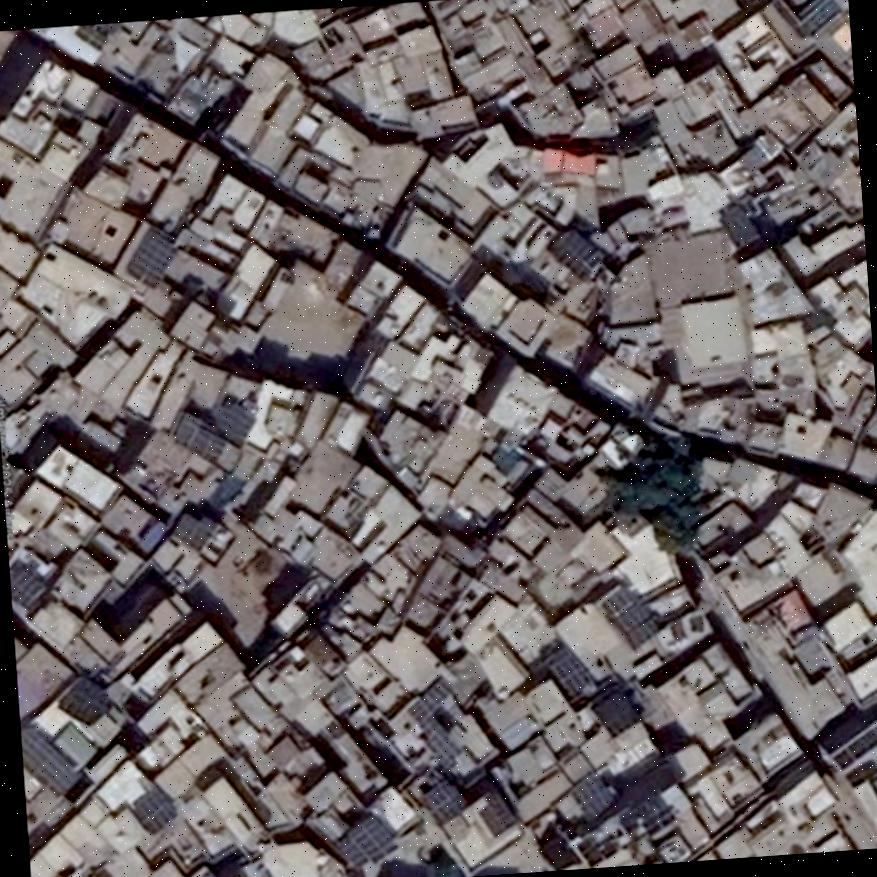Solarpanel: (23, 719, 80, 796), (601, 583, 659, 653), (545, 223, 604, 284), (540, 644, 595, 705), (336, 816, 398, 870), (125, 225, 175, 291), (54, 675, 112, 727), (410, 700, 459, 760), (170, 411, 225, 463), (130, 782, 178, 834), (571, 772, 612, 824), (476, 789, 517, 834), (423, 783, 467, 821), (11, 560, 47, 606), (416, 675, 451, 716)
